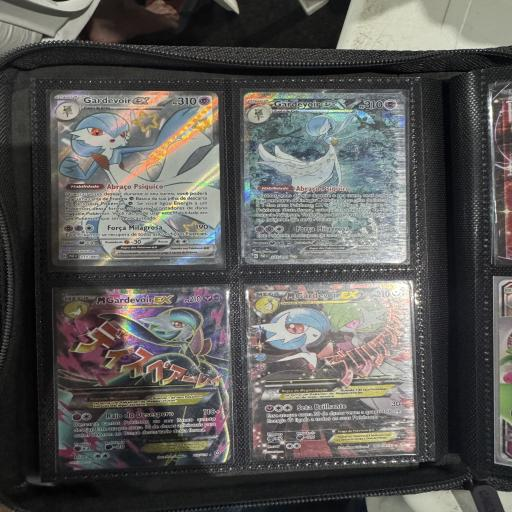card: (53, 284, 232, 474), (48, 91, 223, 267), (247, 282, 414, 460), (243, 91, 410, 263)
